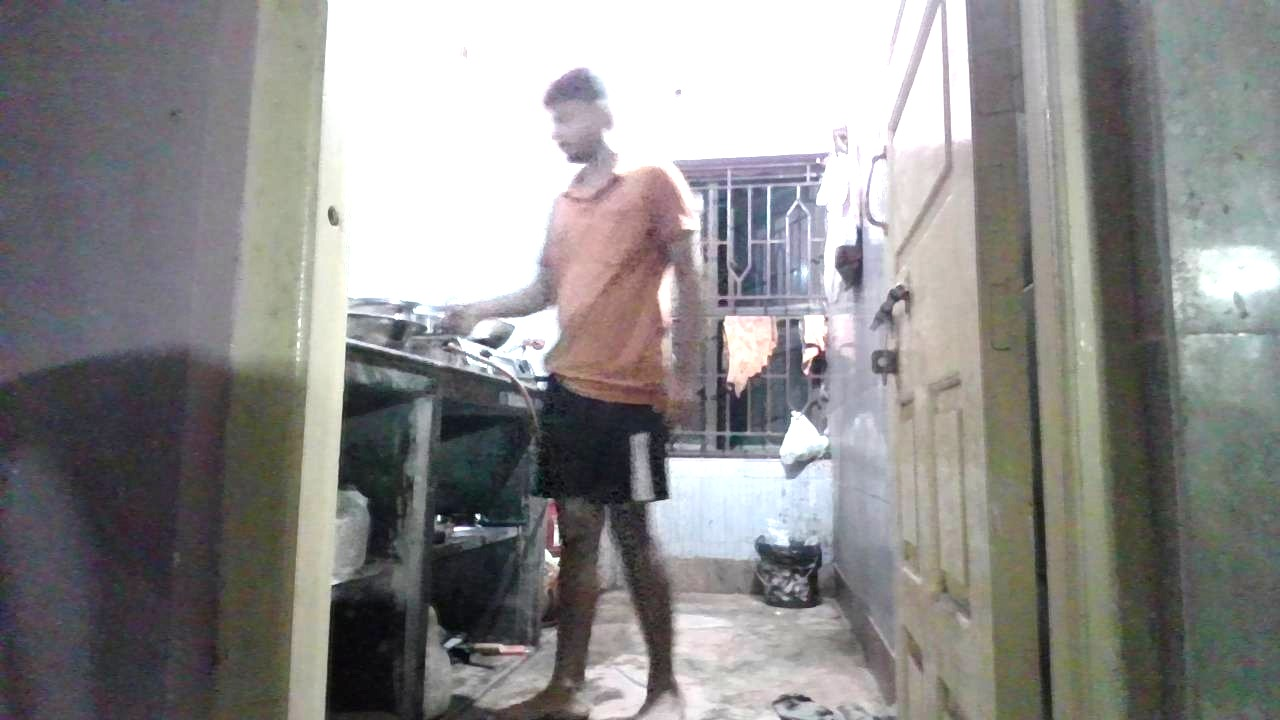red_box: (608, 349, 666, 407)
